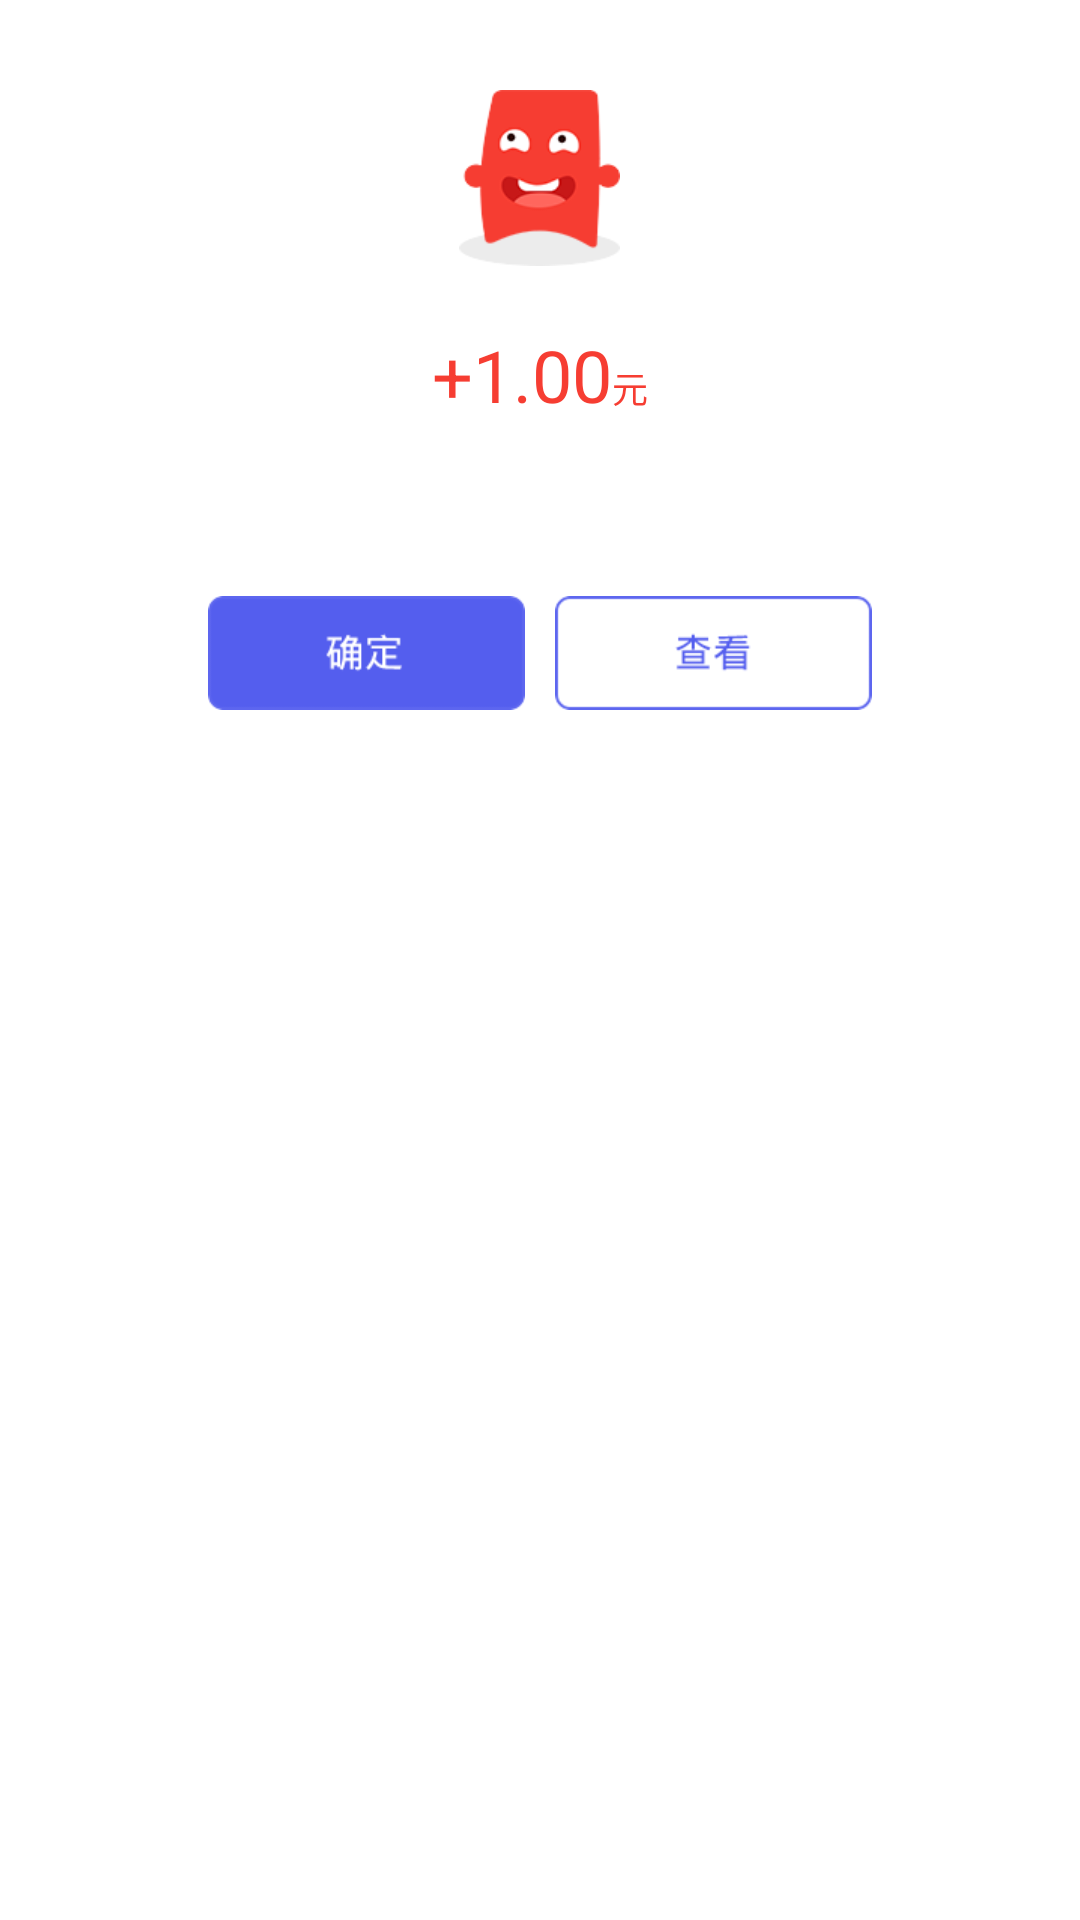

Point at icon controls on the screen. Image size 1080x1920, points as (x=x, y=y).
pac suc: (x=541, y=169)
